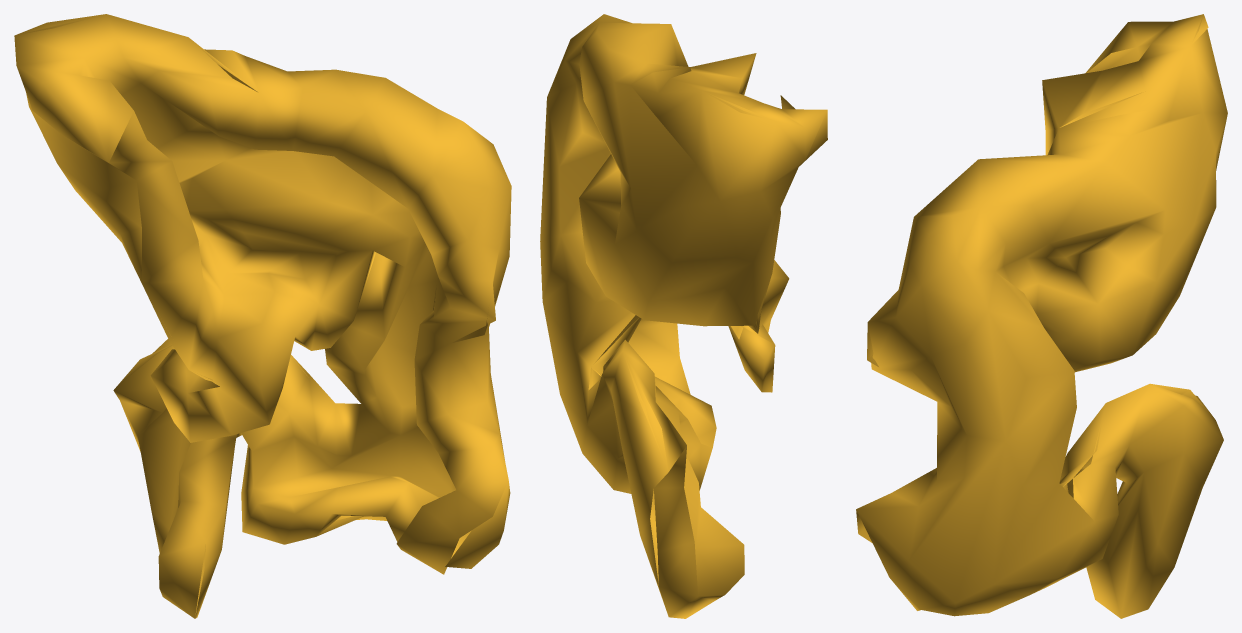
The model's file is nervoso-lateral-occipital-gyrus-middle-occipital-gyrus-l.glb.
3 renders of one model, left to right at view 1: azimuth 30°, elevation 25°; view 2: azimuth 150°, elevation 25°; view 3: azimuth 270°, elevation 25°, orthographic. The views are drawn at different scales.
Parts seen in each view (by area): view 1: Lateral occipital gyrus (Middle occipital gyrus*).l; view 2: Lateral occipital gyrus (Middle occipital gyrus*).l; view 3: Lateral occipital gyrus (Middle occipital gyrus*).l.
Boxes of the visible parts, <box> form: Lateral occipital gyrus (Middle occipital gyrus*).l: <box>14,14,511,618</box>; Lateral occipital gyrus (Middle occipital gyrus*).l: <box>540,14,827,618</box>; Lateral occipital gyrus (Middle occipital gyrus*).l: <box>856,14,1227,618</box>.
Size of the model in its own units: 0.03 by 0.045 by 0.0277.
